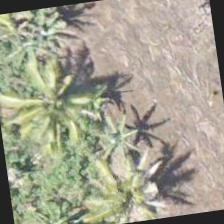Kelapa_Sawit: (0, 54, 102, 156), (83, 146, 184, 223)
